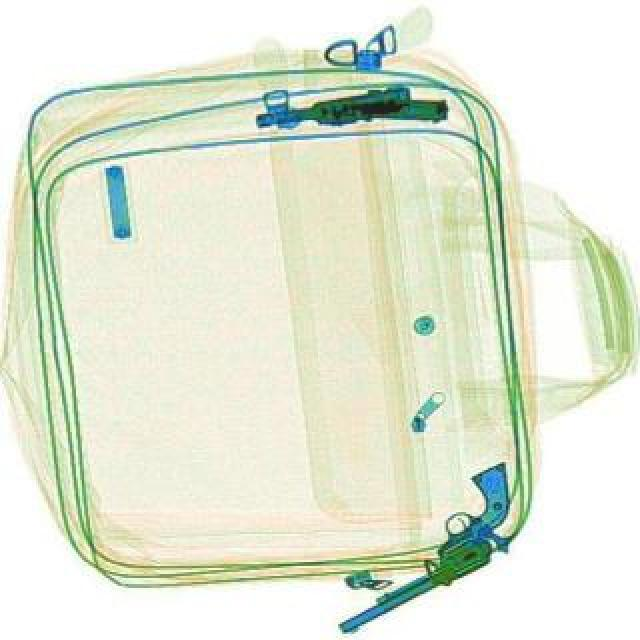gun: (300, 460, 548, 640), (252, 80, 446, 134)
